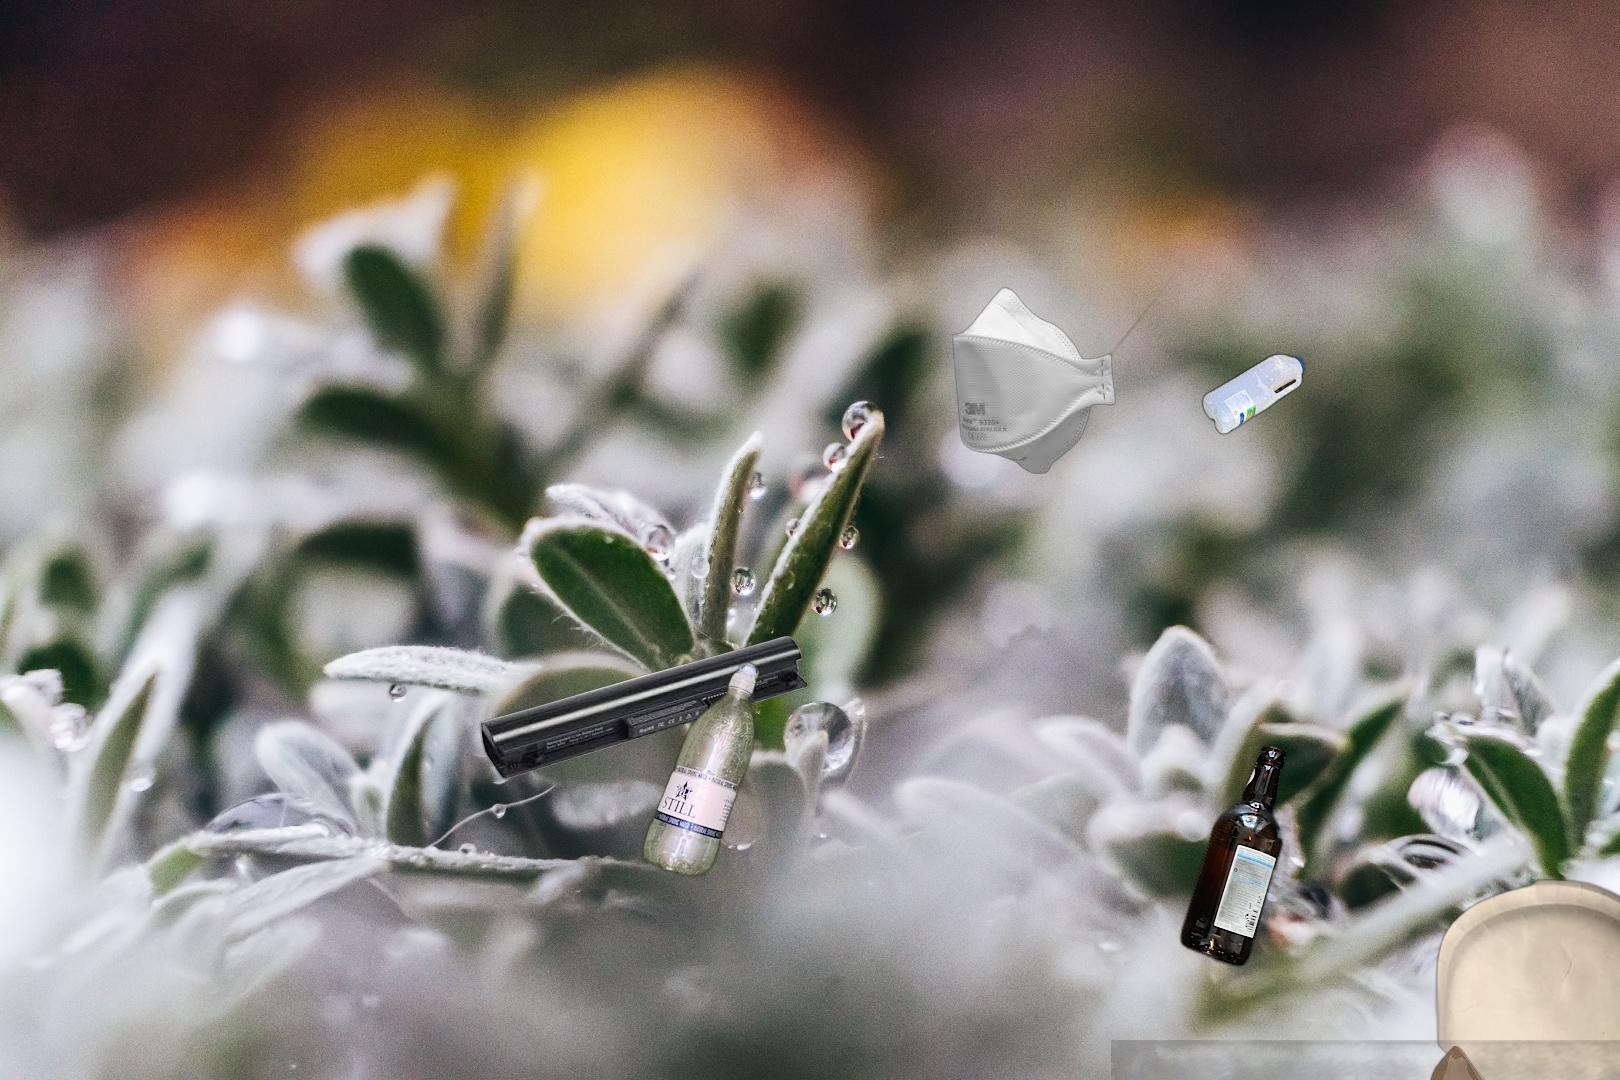battery: (479, 633, 810, 782)
glass: (1176, 739, 1290, 972)
paper: (1432, 877, 1620, 1080)
plastic-bottles: (638, 656, 763, 882), (1198, 348, 1308, 440)
shoes: (1428, 1046, 1620, 1080)
trash: (952, 257, 1184, 474)
trashbox-cardboard: (1111, 1040, 1620, 1080)
